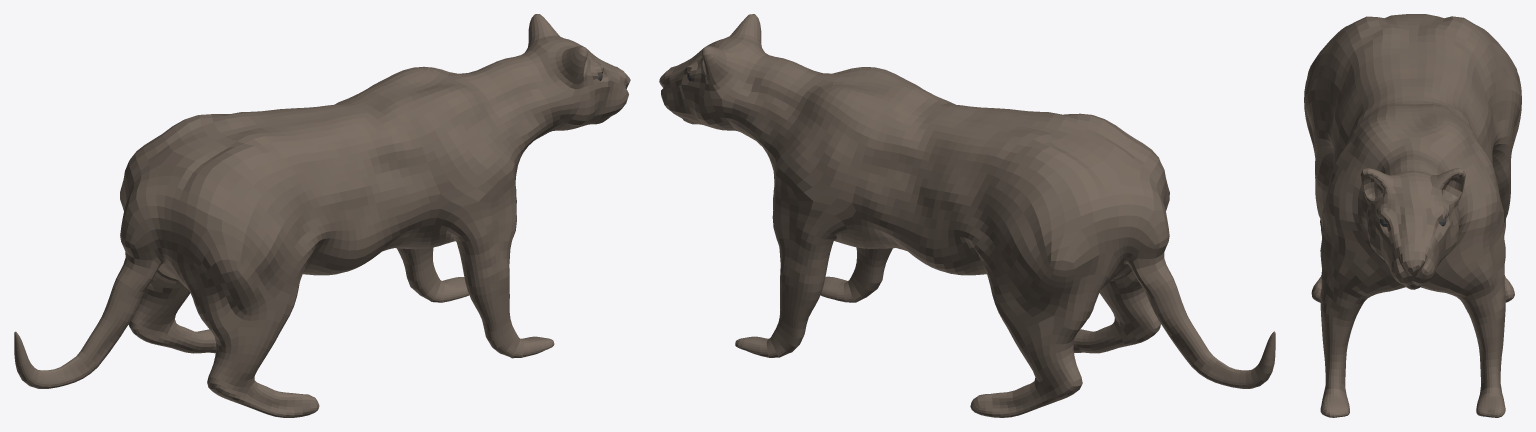
Rendered from GADS_Leopard_01_Lowpoly.fbx.
3 renders of one model, left to right at view 1: azimuth 30°, elevation 25°; view 2: azimuth 150°, elevation 25°; view 3: azimuth 270°, elevation 25°, orthographic.
Visible parts, largest first — view 1: Retopo_Sphere.003; view 2: Retopo_Sphere.003; view 3: Retopo_Sphere.003.
Part boxes in pixels (<box>): Retopo_Sphere.003: <box>14,14,630,417</box>; Retopo_Sphere.003: <box>659,14,1275,417</box>; Retopo_Sphere.003: <box>1304,14,1521,417</box>.
Size of the model in its own units: 20163 by 8763 by 6163.
